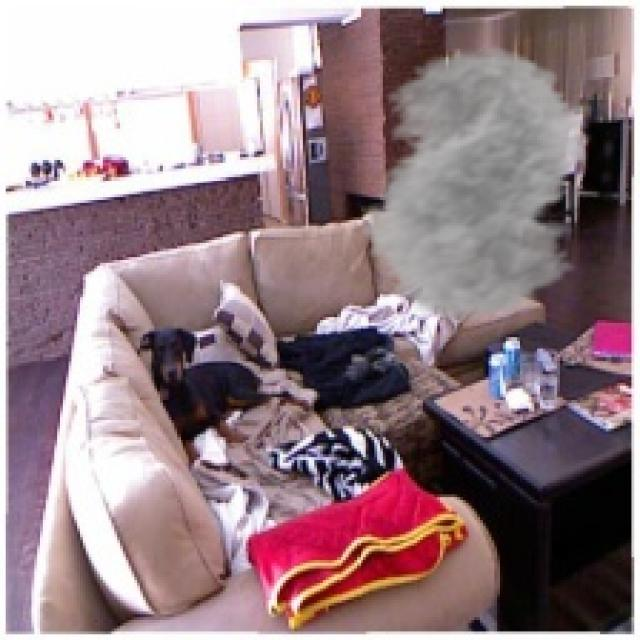smoke: (340, 46, 620, 323)
